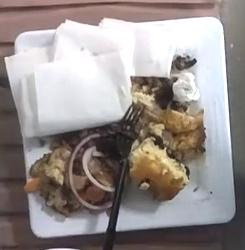unknown: (129, 92, 206, 200)
vegetables: (24, 124, 122, 216)
